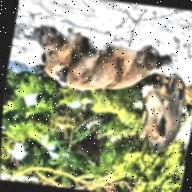boar: (25, 24, 176, 102), (133, 70, 190, 156)
